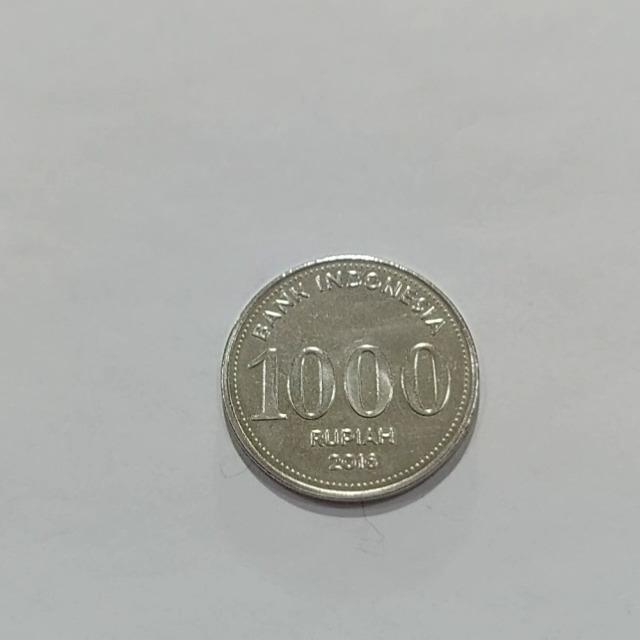Rp100: (218, 253, 481, 505)
